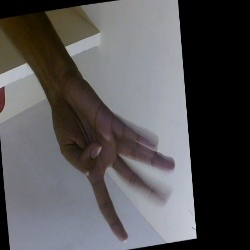hand: (32, 92, 177, 239)
